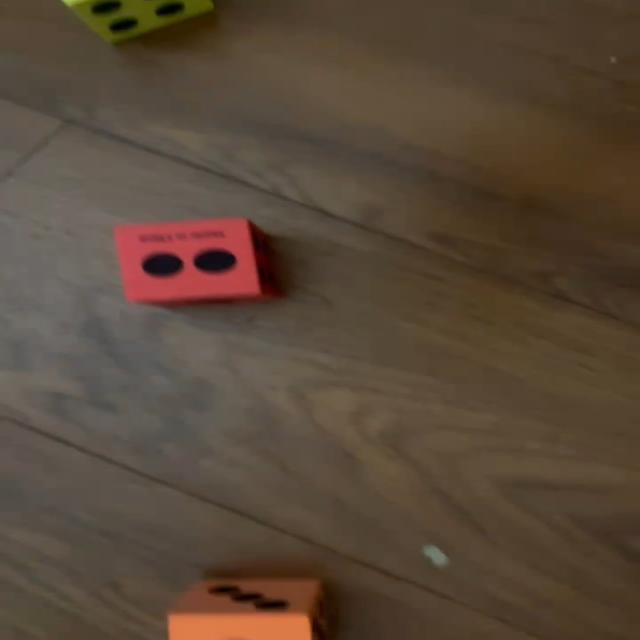red_block: (110, 218, 277, 307)
